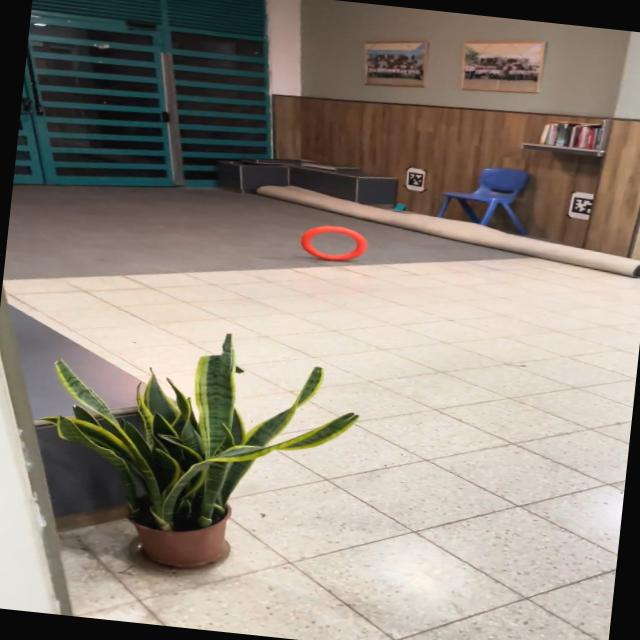note: (295, 220, 371, 266)
